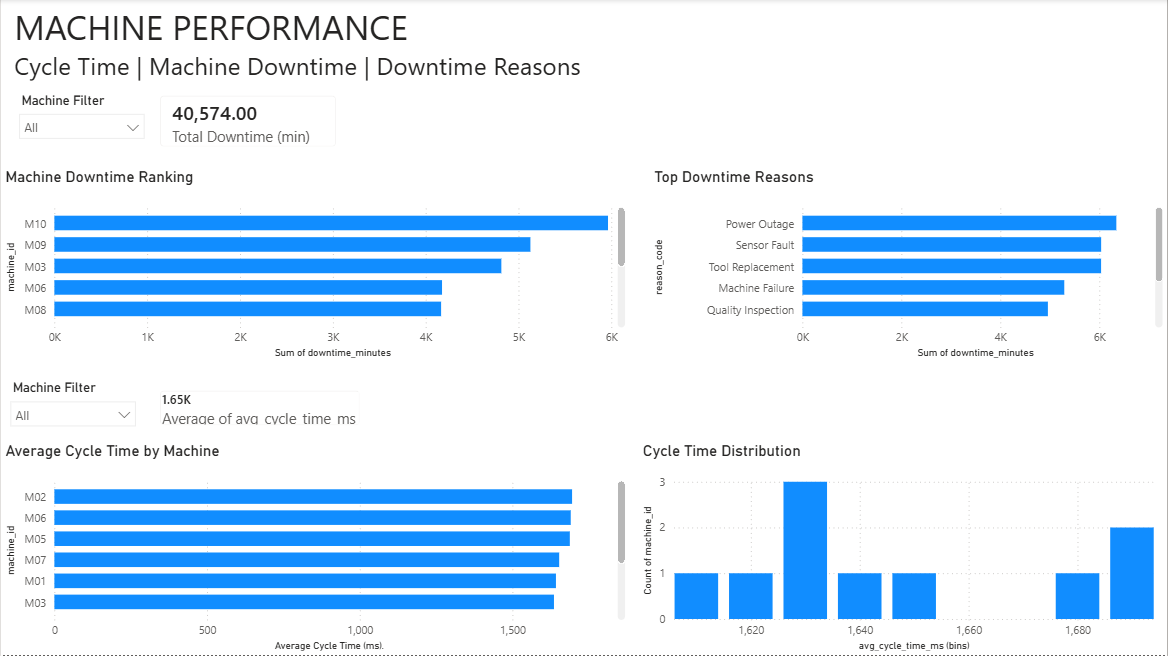

The page's visual inventory and layout, read from the dashboard file:
{"tool":"powerbi","page":{"name":"Machine Performance","canvas":[1280,720],"ordinal":1},"visuals":[{"type":"textbox","box":[9.6,0,1270.7,89.2],"z":0},{"type":"clusteredBarChart","title":"Machine Downtime Ranking","fields":{"Y":["Sum(public machine_downtime.downtime_minutes)"],"Category":["public dim_machine.machine_id"]},"box":[0,185.2,690.2,214.1],"z":1000},{"type":"cardVisual","title":"Total Downtime (min)","fields":{"Data":["Sum(public machine_downtime.downtime_minutes)"]},"box":[157.8,89.2,227.8,90.6],"z":2000},{"type":"slicer","fields":{"Values":["public dim_machine.machine_id"]},"box":[9.6,94.7,157.8,72.7],"z":3000},{"type":"clusteredBarChart","title":"Average Cycle Time by Machine","fields":{"Category":["public machine_performance.machine_id"],"Y":["Avg(public machine_performance.avg_cycle_time_ms)"]},"box":[0,485.8,690.2,234.6],"z":4000},{"type":"clusteredBarChart","title":"Top Downtime Reasons","fields":{"Category":["public machine_downtime.reason_code"],"Y":["Sum(public machine_downtime.downtime_minutes)"]},"box":[712.2,185.2,568.1,214.1],"z":5000},{"type":"cardVisual","fields":{"Data":["Avg(public machine_performance.avg_cycle_time_ms)"]},"box":[157.8,413,253.9,72.7],"z":6000},{"type":"slicer","fields":{"Values":["public machine_performance.machine_id"]},"box":[0,413,157.8,72.7],"z":7000},{"type":"clusteredColumnChart","title":"Cycle Time Distribution","fields":{"Category":["public machine_performance.avg_cycle_time_ms (bins)"],"Y":["CountNonNull(public machine_performance.machine_id)"]},"box":[699.8,485.8,570.8,234.6],"z":7001}]}

Visuals, with their boxes in screenshot pixels (x1, y1, x2, y2), scaled from the page's 1280x720 canvas onto the 1168x656 screenshot:
textbox: rect(9, 0, 1167, 81)
"Machine Downtime Ranking" clusteredBarChart: rect(0, 169, 630, 364)
"Total Downtime (min)" cardVisual: rect(144, 81, 352, 164)
slicer - public dim_machine.machine_id: rect(9, 86, 153, 153)
"Average Cycle Time by Machine" clusteredBarChart: rect(0, 443, 630, 655)
"Top Downtime Reasons" clusteredBarChart: rect(650, 169, 1167, 364)
cardVisual - Avg(public machine_performance.avg_cycle_time_ms): rect(144, 376, 376, 443)
slicer - public machine_performance.machine_id: rect(0, 376, 144, 443)
"Cycle Time Distribution" clusteredColumnChart: rect(639, 443, 1159, 655)
